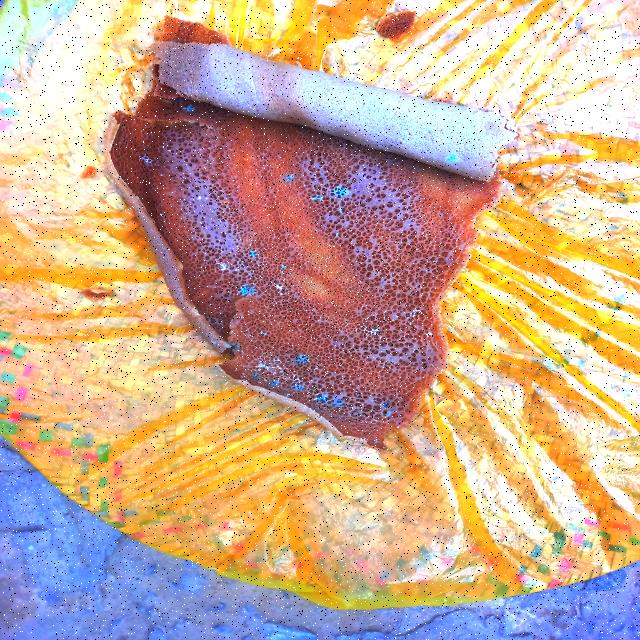injera_mold: (405, 307, 433, 338), (256, 355, 283, 372), (316, 393, 345, 408), (134, 151, 158, 169), (442, 152, 464, 171), (357, 323, 384, 337), (236, 283, 257, 297), (214, 258, 233, 273), (332, 185, 350, 198), (290, 382, 306, 392), (295, 355, 310, 364), (308, 194, 324, 202), (282, 173, 296, 182), (182, 104, 196, 112), (291, 373, 303, 382), (268, 380, 281, 388), (276, 284, 285, 294), (248, 250, 259, 258), (381, 400, 391, 408), (252, 372, 260, 379), (383, 410, 392, 416), (280, 264, 288, 270), (338, 207, 343, 214), (196, 195, 202, 200)
